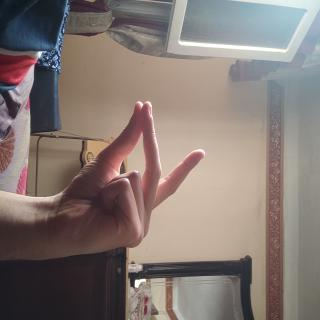TAA: (71, 148, 198, 320)
